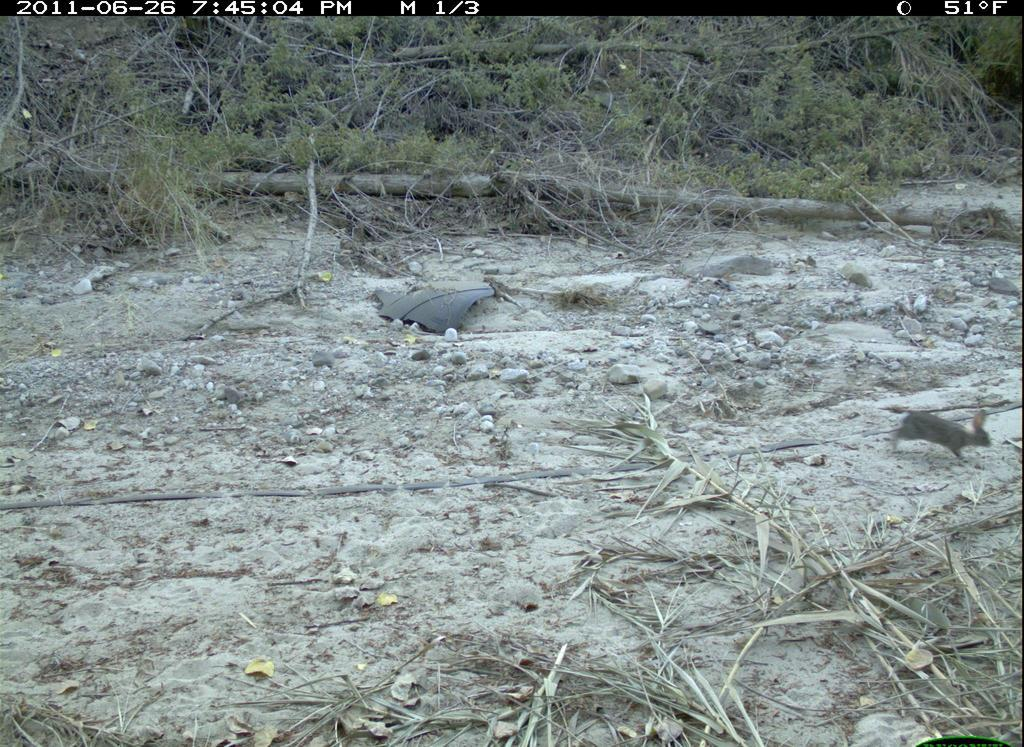rabbit: (890, 399, 995, 472)
